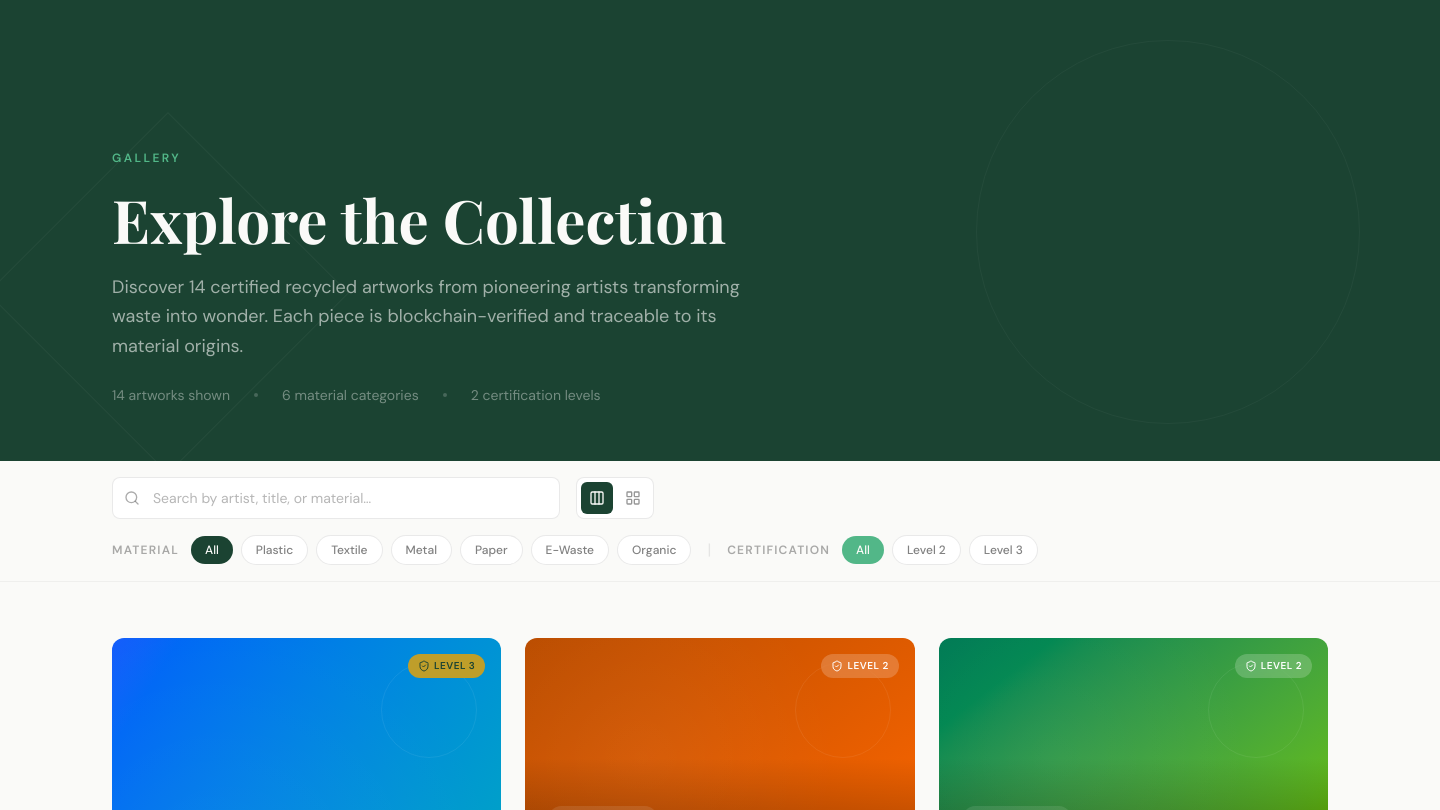
Scenario: GalleryPage › updates artwork count when filtered
The width and height of the screenshot is (1440, 810).
Click the button "Plastic" at (275, 550), box x1=241 y1=535 x2=308 y2=565
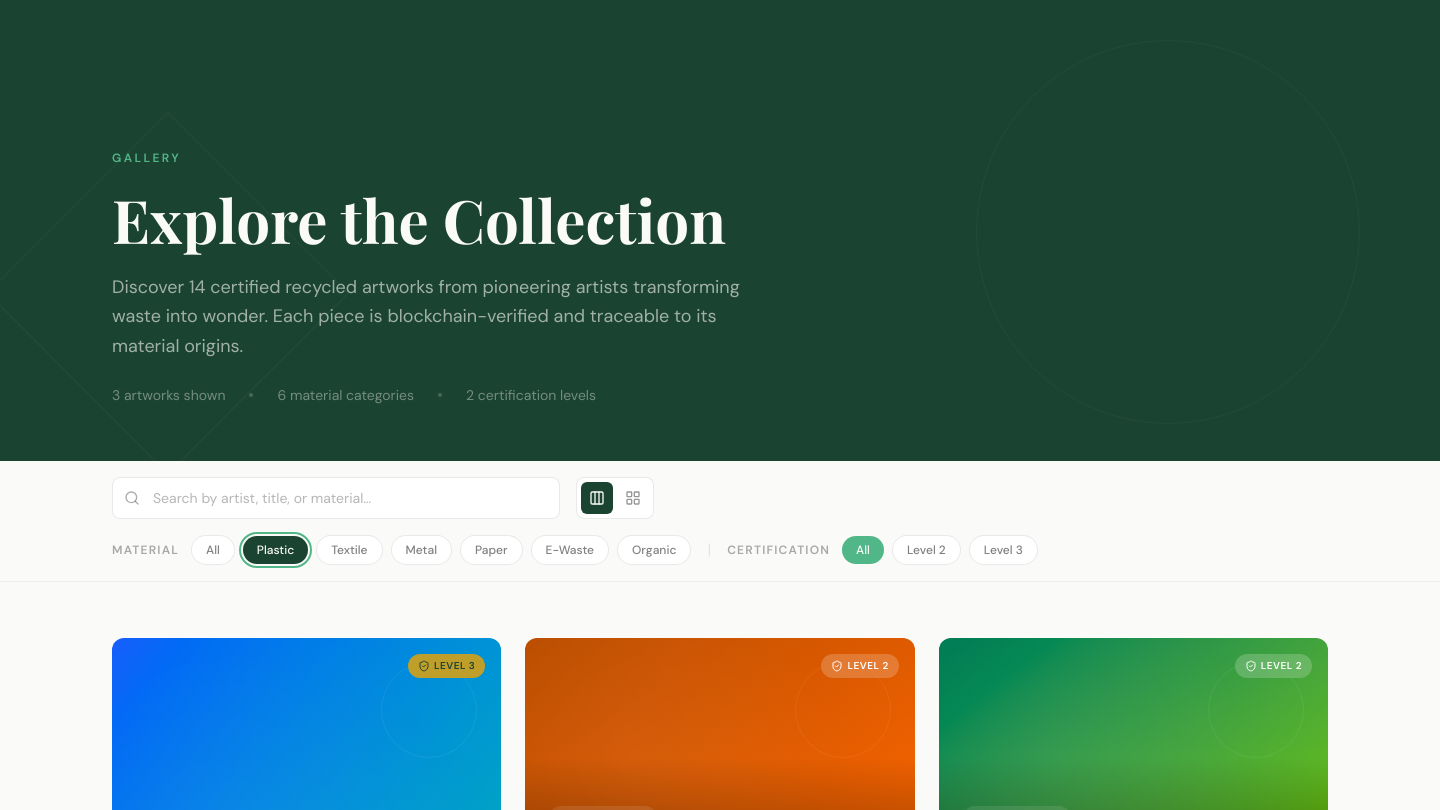
expect the text "3 artworks shown" is shown: met, box x1=112 y1=385 x2=225 y2=405
